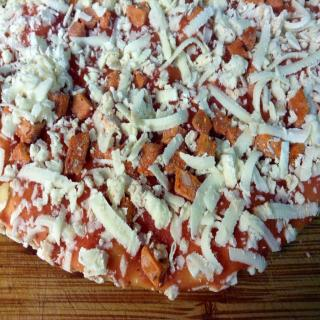Pizza: (0, 10, 309, 306)
